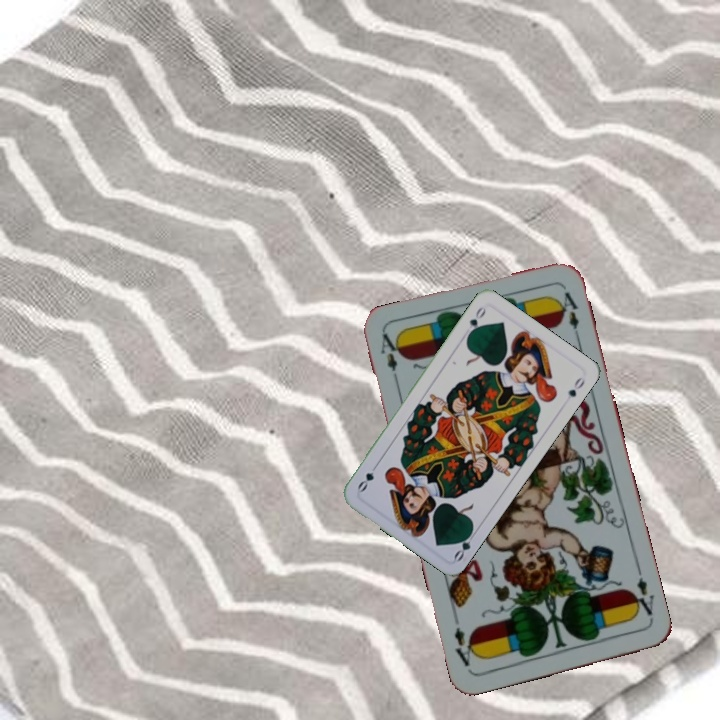EA: (626, 565, 657, 618), (376, 330, 404, 388)
GO: (450, 525, 480, 564), (463, 302, 488, 340)
